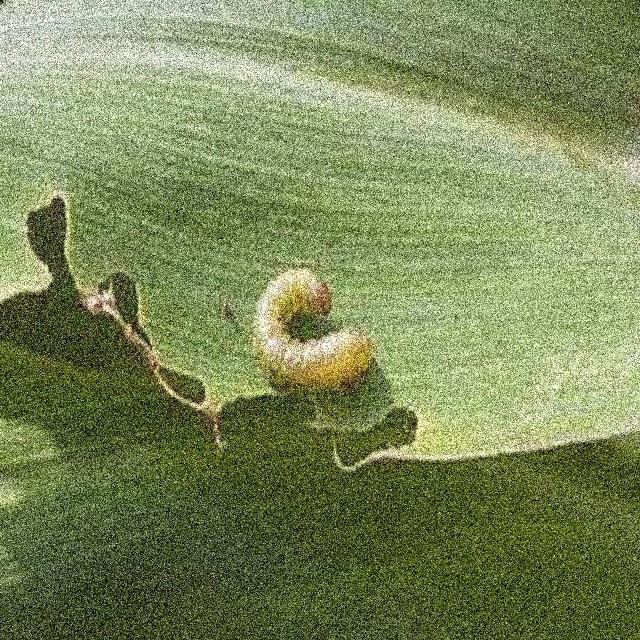Plaga: (244, 263, 384, 397)
